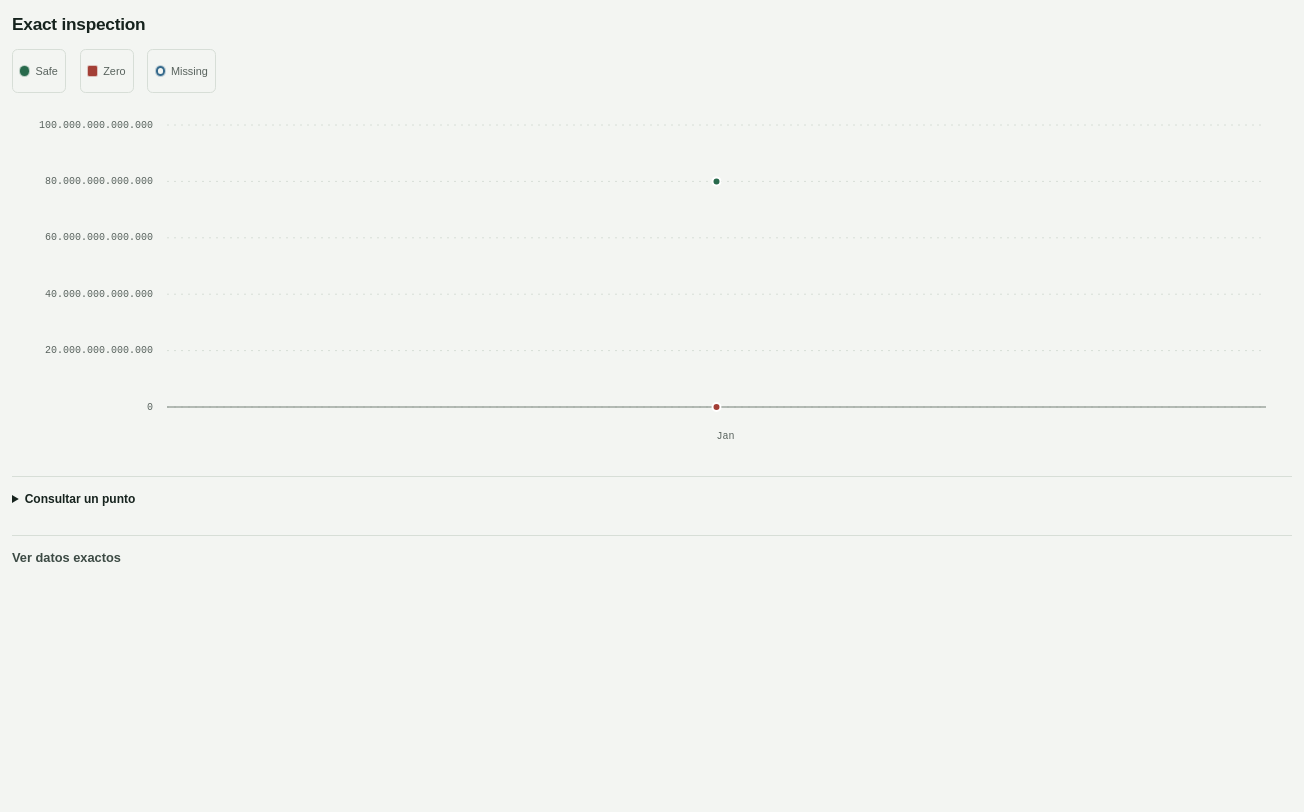
Test: shows exact safe boundary and zero minor amounts in the inspector while retaining missing points
Click the heading "Consultar un punto": (80, 498) [25,492,135,506]
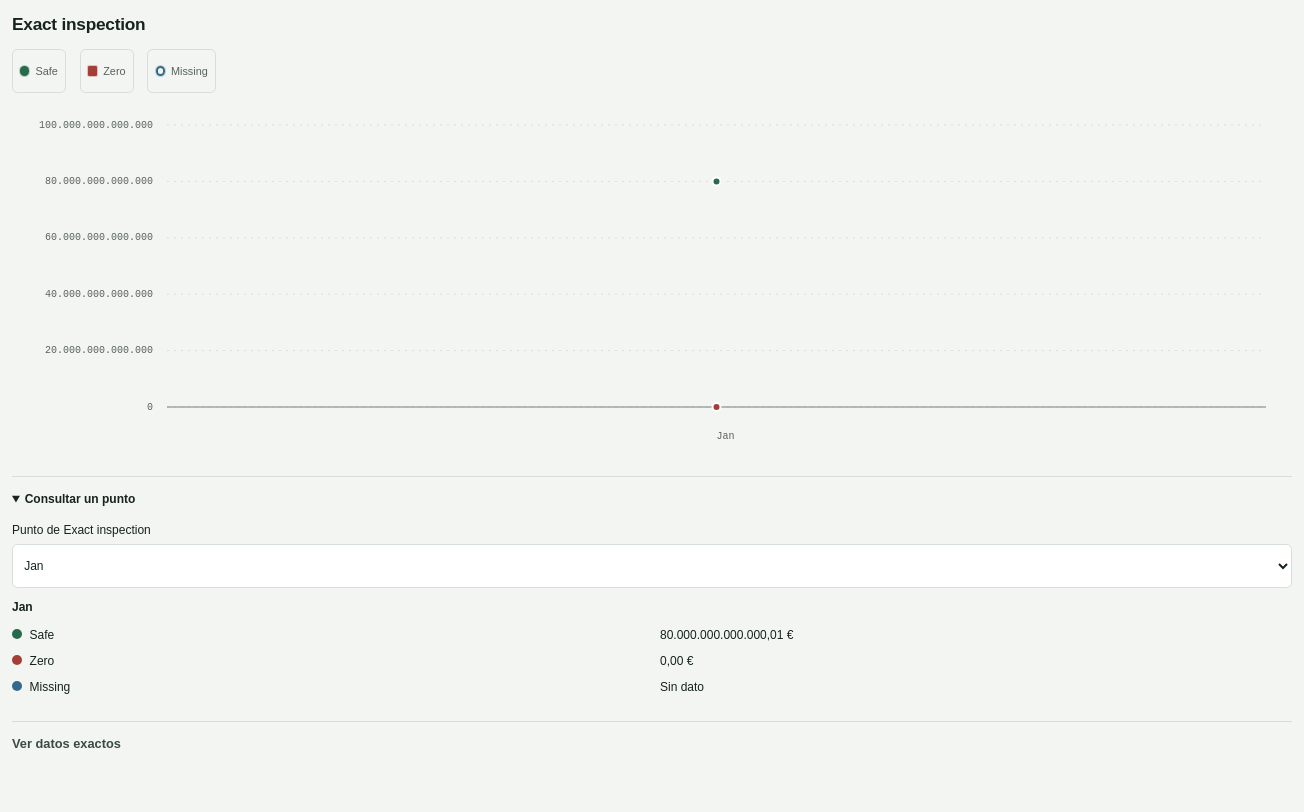
Expected: the element named "Valores de Exact inspection" reads "Jan Safe 80.000.000.000.000,01 € Zero 0,00 € Missing Sin dato", [12,600,794,694]
